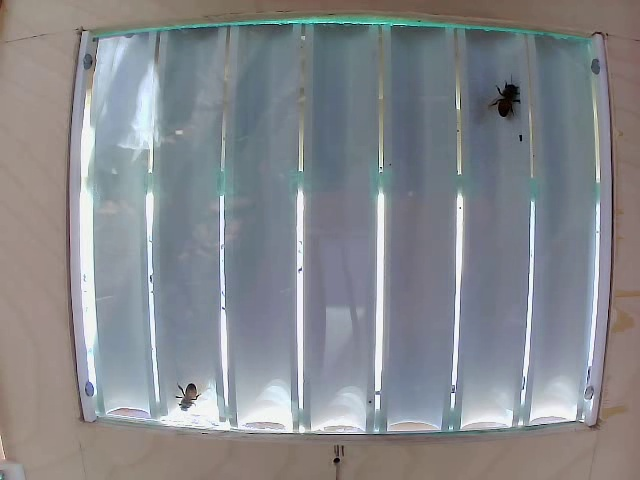bee: (168, 378, 206, 421), (491, 82, 516, 121)
